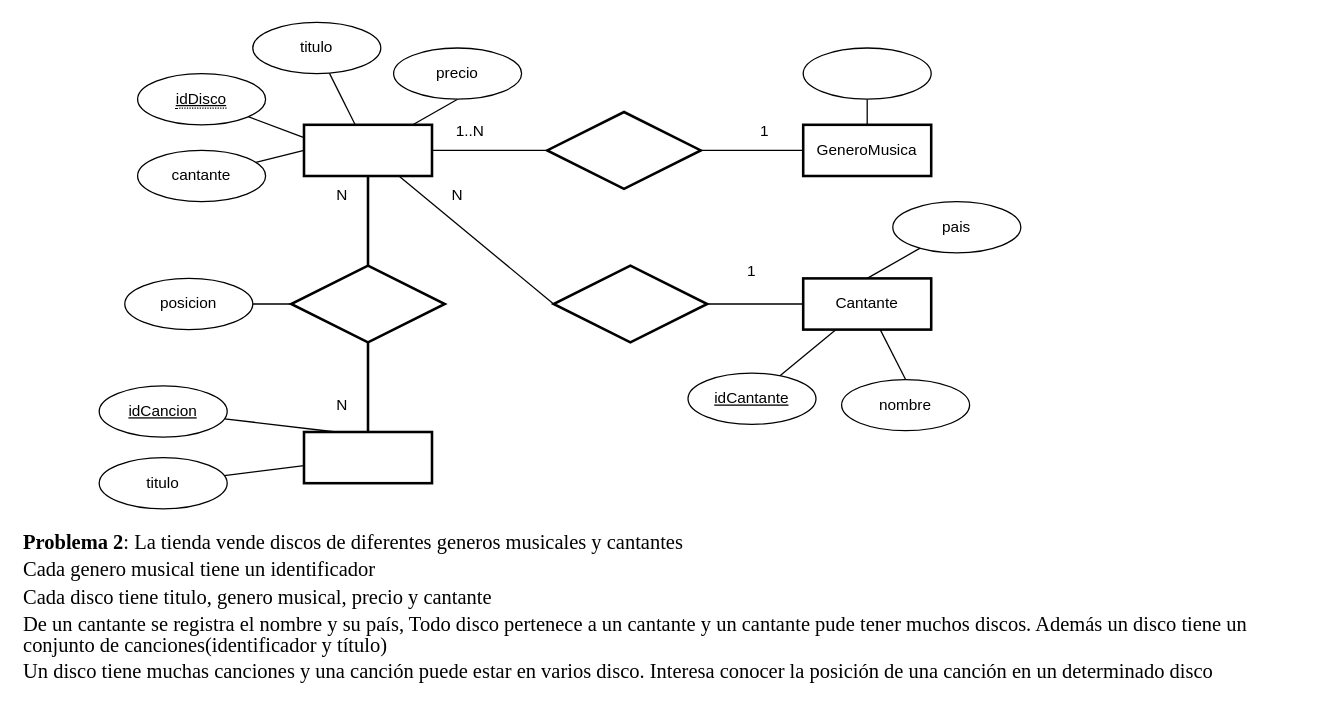
Image size: 1324x705. Some labels were removed from this diagram. The centre of each missing label's shape, as x and y in pixels:
"Cancion" belongs at point 367,457.
"cantado" belongs at point 630,303.
"contiene" belongs at point 367,303.
"Disco" belongs at point 367,150.
"idGenero" belongs at point 866,73.
"tiene" belongs at point 623,149.
